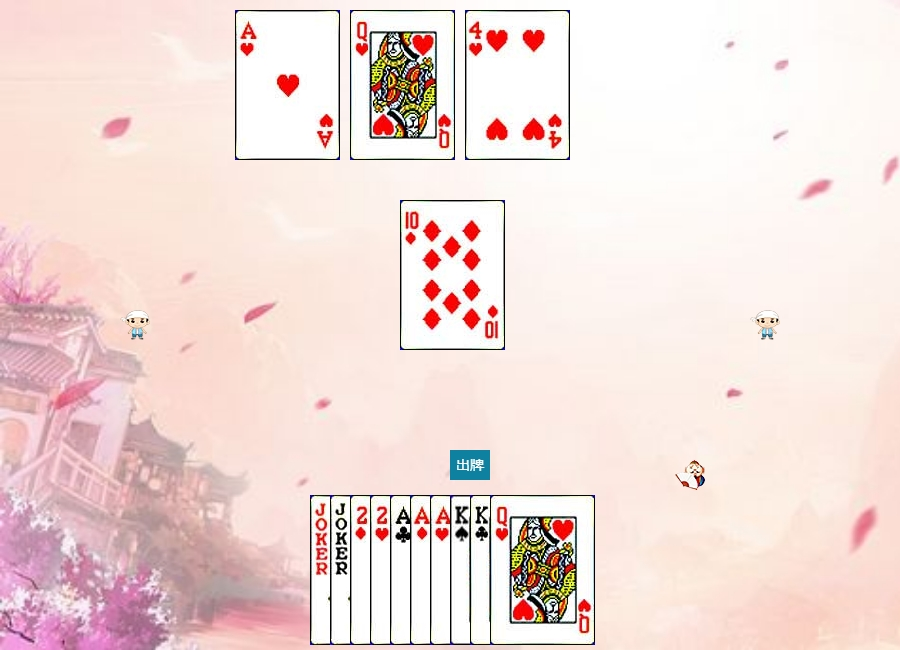10~1: (400, 200, 505, 350)
12~3: (350, 10, 455, 160), (490, 495, 595, 645)
13~2: (470, 495, 575, 645)
13~4: (450, 495, 555, 645)
14~1: (410, 495, 515, 645)
14~2: (390, 495, 495, 645)
14~3: (235, 10, 340, 160), (430, 495, 535, 645)
15~1: (350, 495, 455, 645)
15~3: (370, 495, 475, 645)
17~3: (330, 495, 435, 645)
18~4: (310, 495, 415, 645)
4~3: (465, 10, 570, 160)
